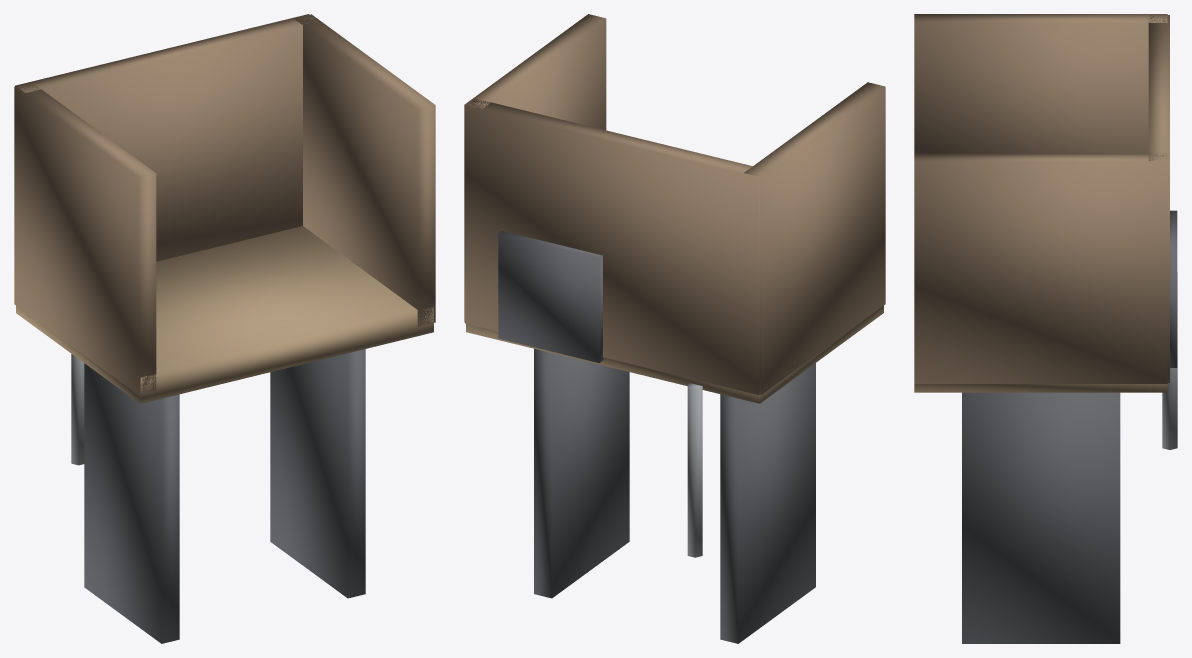
Rendered from study_carrel__service.glb.
3 views of the same model, side by side, from view 1: azimuth 30°, elevation 25°; view 2: azimuth 150°, elevation 25°; view 3: azimuth 270°, elevation 25° (orthographic). The views are drawn at different scales.
Visible parts, largest first — view 1: world; view 2: world; view 3: world.
Part boxes in pixels (x1,y1,x2,y2): world: [14, 14, 435, 643]; world: [464, 14, 885, 643]; world: [914, 14, 1177, 643].
Bounding box in the file's own units: 0.83 × 1.32 × 0.623.
